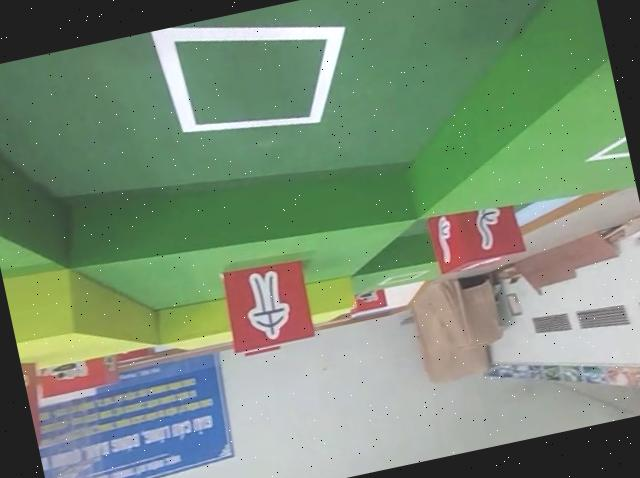R2 Fake: (216, 253, 318, 356)
R2 Real: (421, 189, 528, 278)
